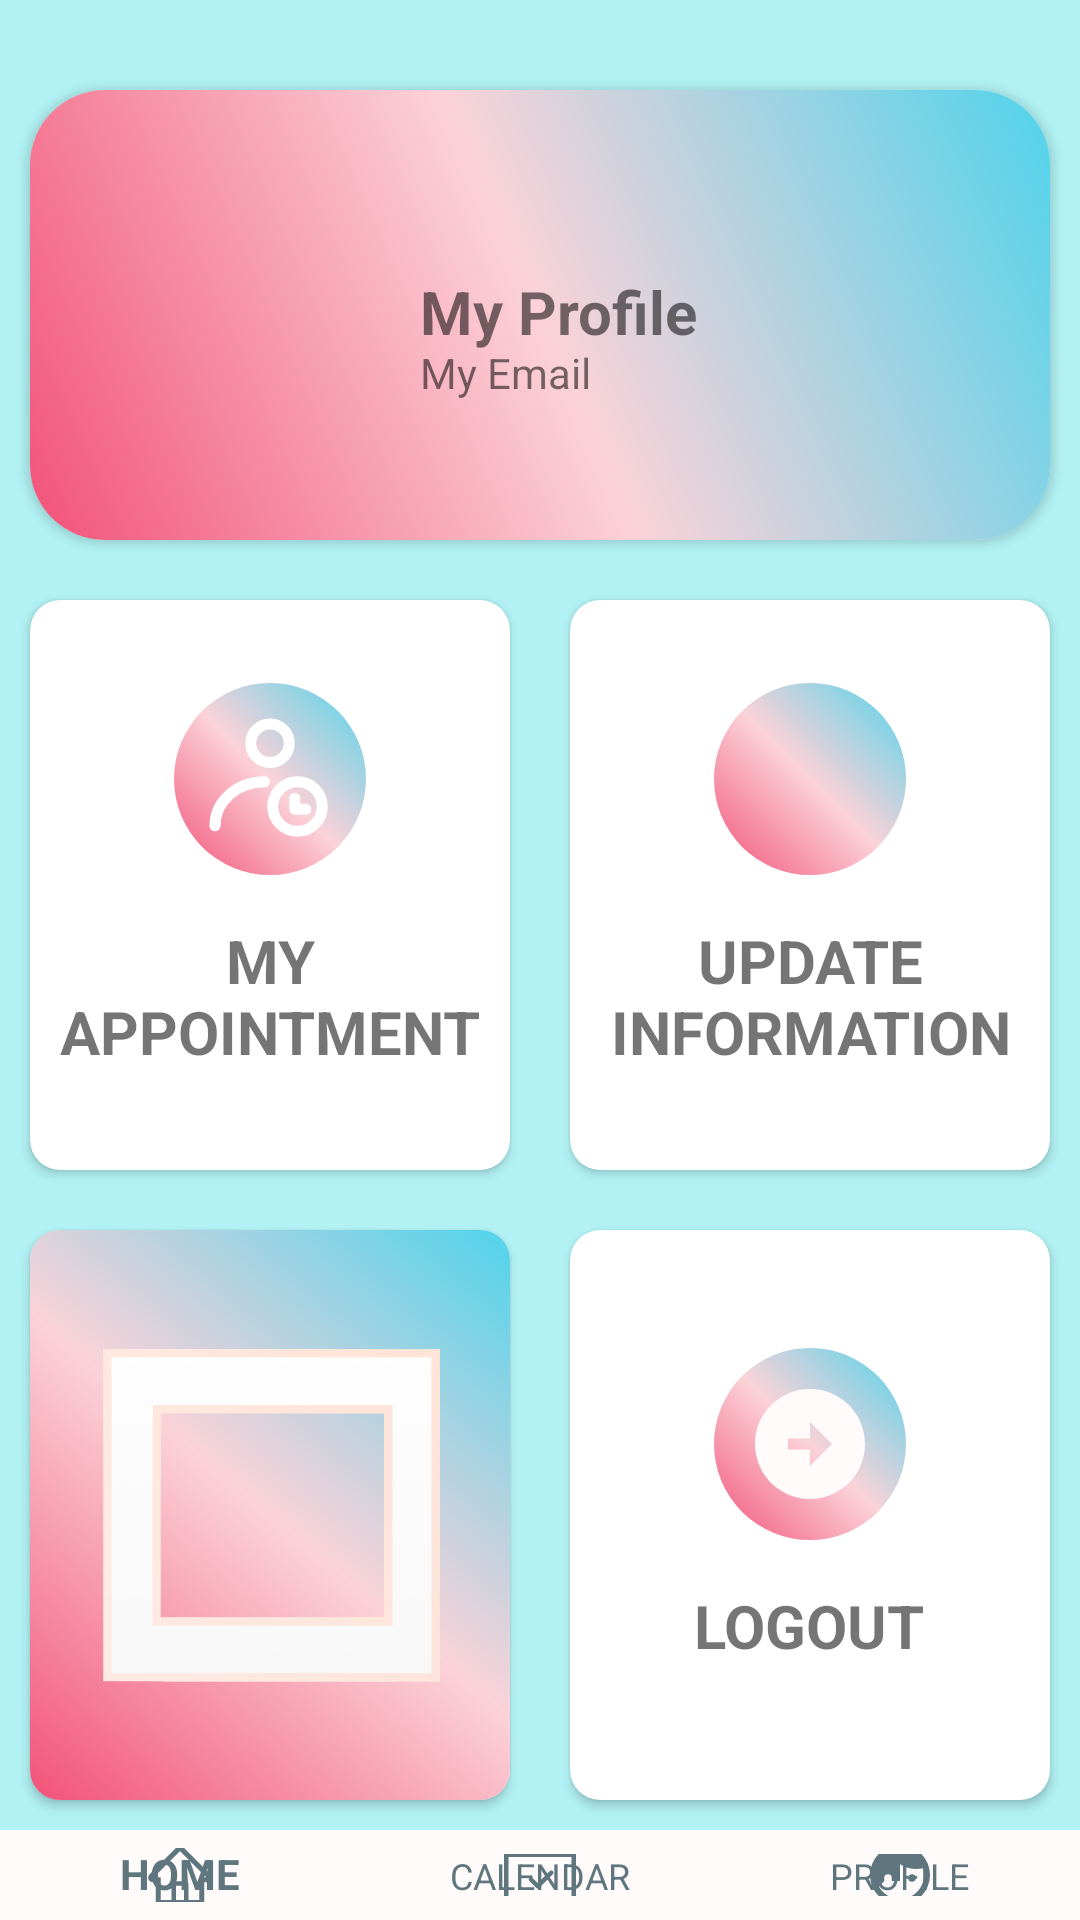

Screen size 1080x1920. Icon name, then its center in pixels as (x=x, y=y):
arrow circle right: (x=810, y=1444)
profile appointment: (x=270, y=779)
